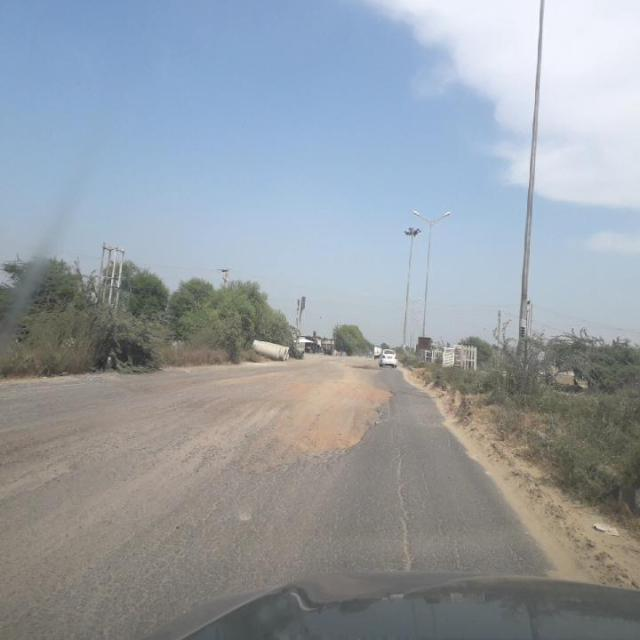Crack: (374, 464, 442, 576)
Surface Erosion: (221, 342, 411, 459)
